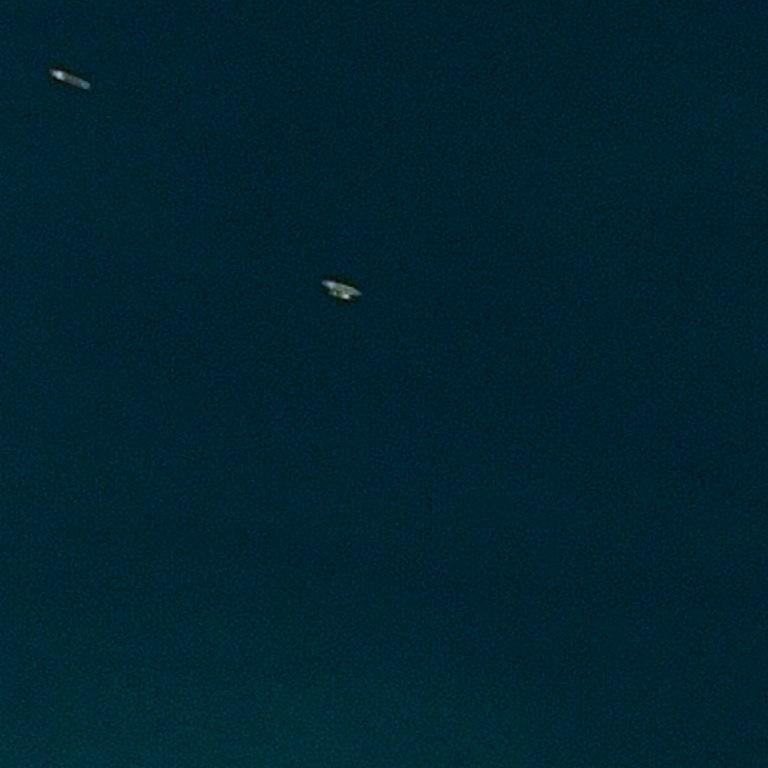ship: (321, 279, 363, 300), (51, 0, 92, 12), (83, 82, 89, 85), (53, 70, 56, 75), (323, 281, 326, 285), (357, 292, 360, 293), (82, 88, 86, 88), (358, 61, 358, 63)
